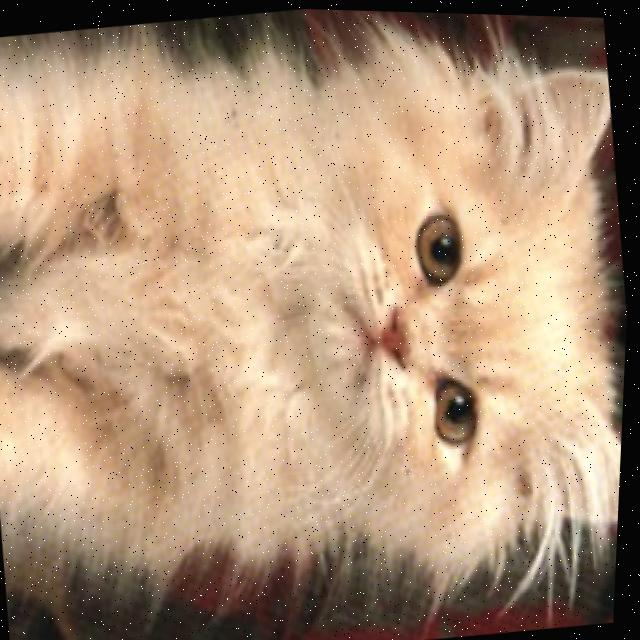Persian: (0, 0, 640, 634)
